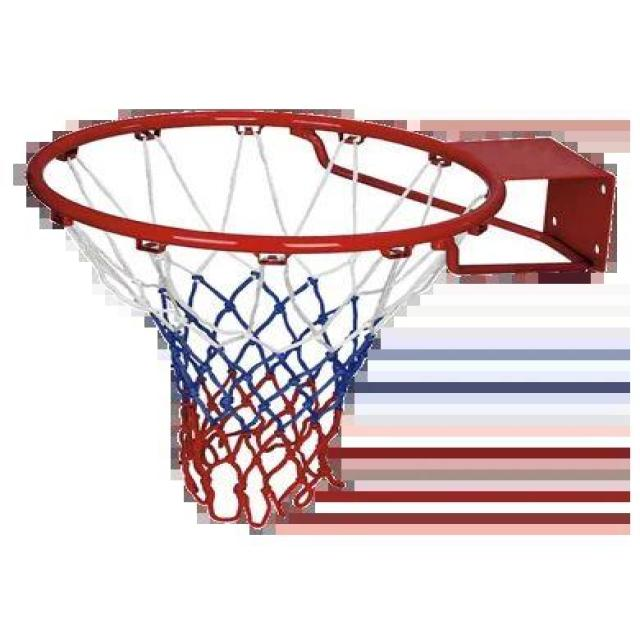hoop: (23, 107, 517, 524)
